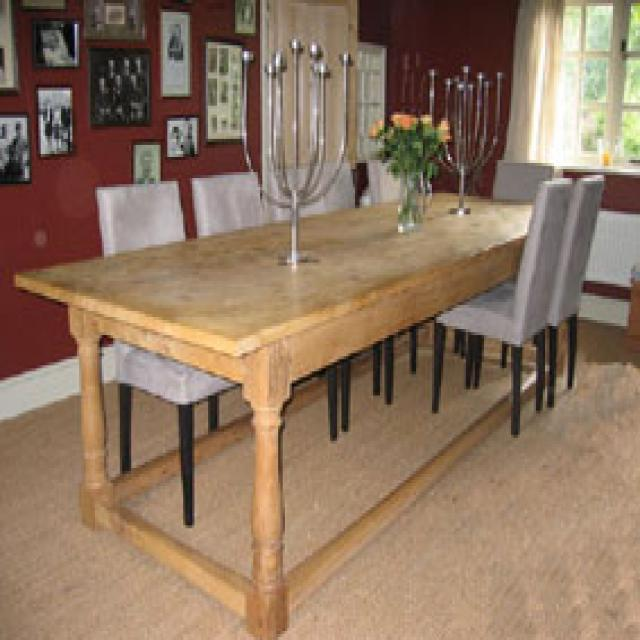table: (14, 189, 566, 640)
